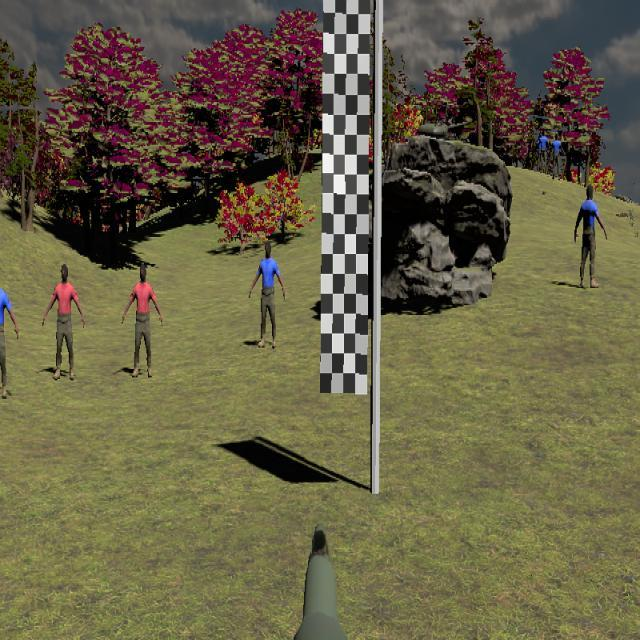Human: (41, 263, 85, 381), (121, 263, 163, 379), (249, 241, 285, 350), (574, 184, 607, 288), (0, 266, 19, 400)
